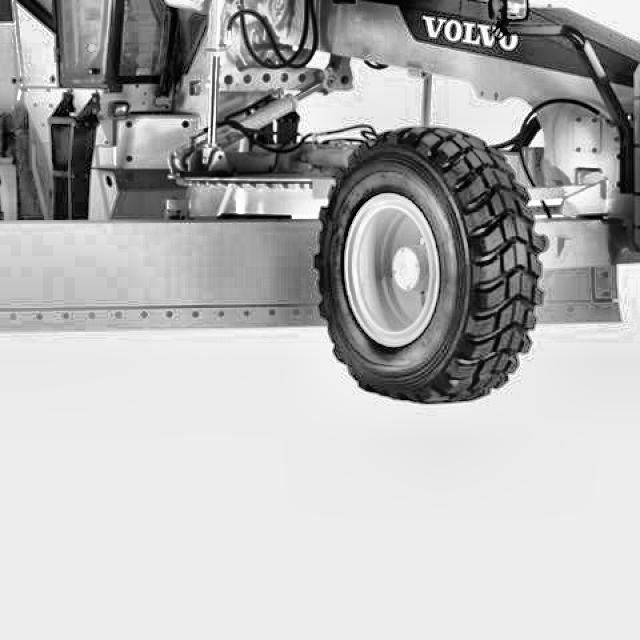buldozerpayloadergrader: (0, 0, 640, 419)
